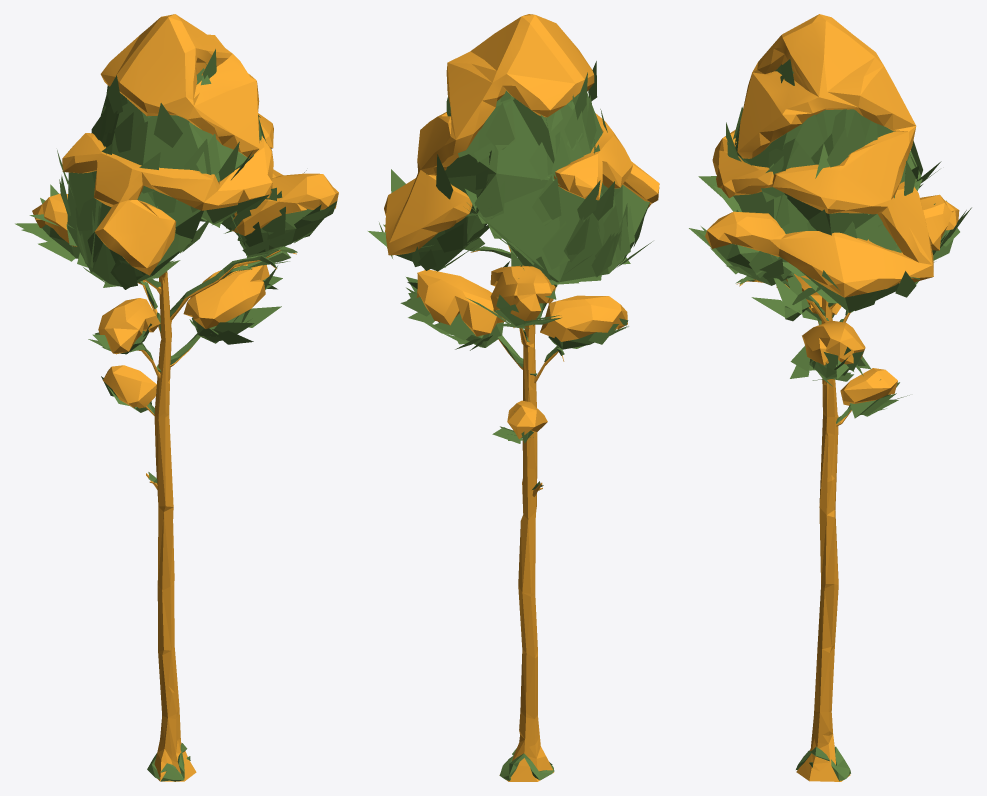
File: SM_Tree_Birch_Mature_A_Snow.fbx
3 views of the same model, side by side, from view 1: azimuth 30°, elevation 25°; view 2: azimuth 150°, elevation 25°; view 3: azimuth 270°, elevation 25° (orthographic).
Visible parts, largest first — view 1: tree-birch-mature-a-snow; view 2: tree-birch-mature-a-snow; view 3: tree-birch-mature-a-snow.
Part boxes in pixels (x1=…): tree-birch-mature-a-snow: x1=15, y1=14, x2=338, y2=781; tree-birch-mature-a-snow: x1=368, y1=14, x2=659, y2=781; tree-birch-mature-a-snow: x1=689, y1=14, x2=971, y2=781.
Bounding box in the file's own units: 3.85 × 11.38 × 3.88.
